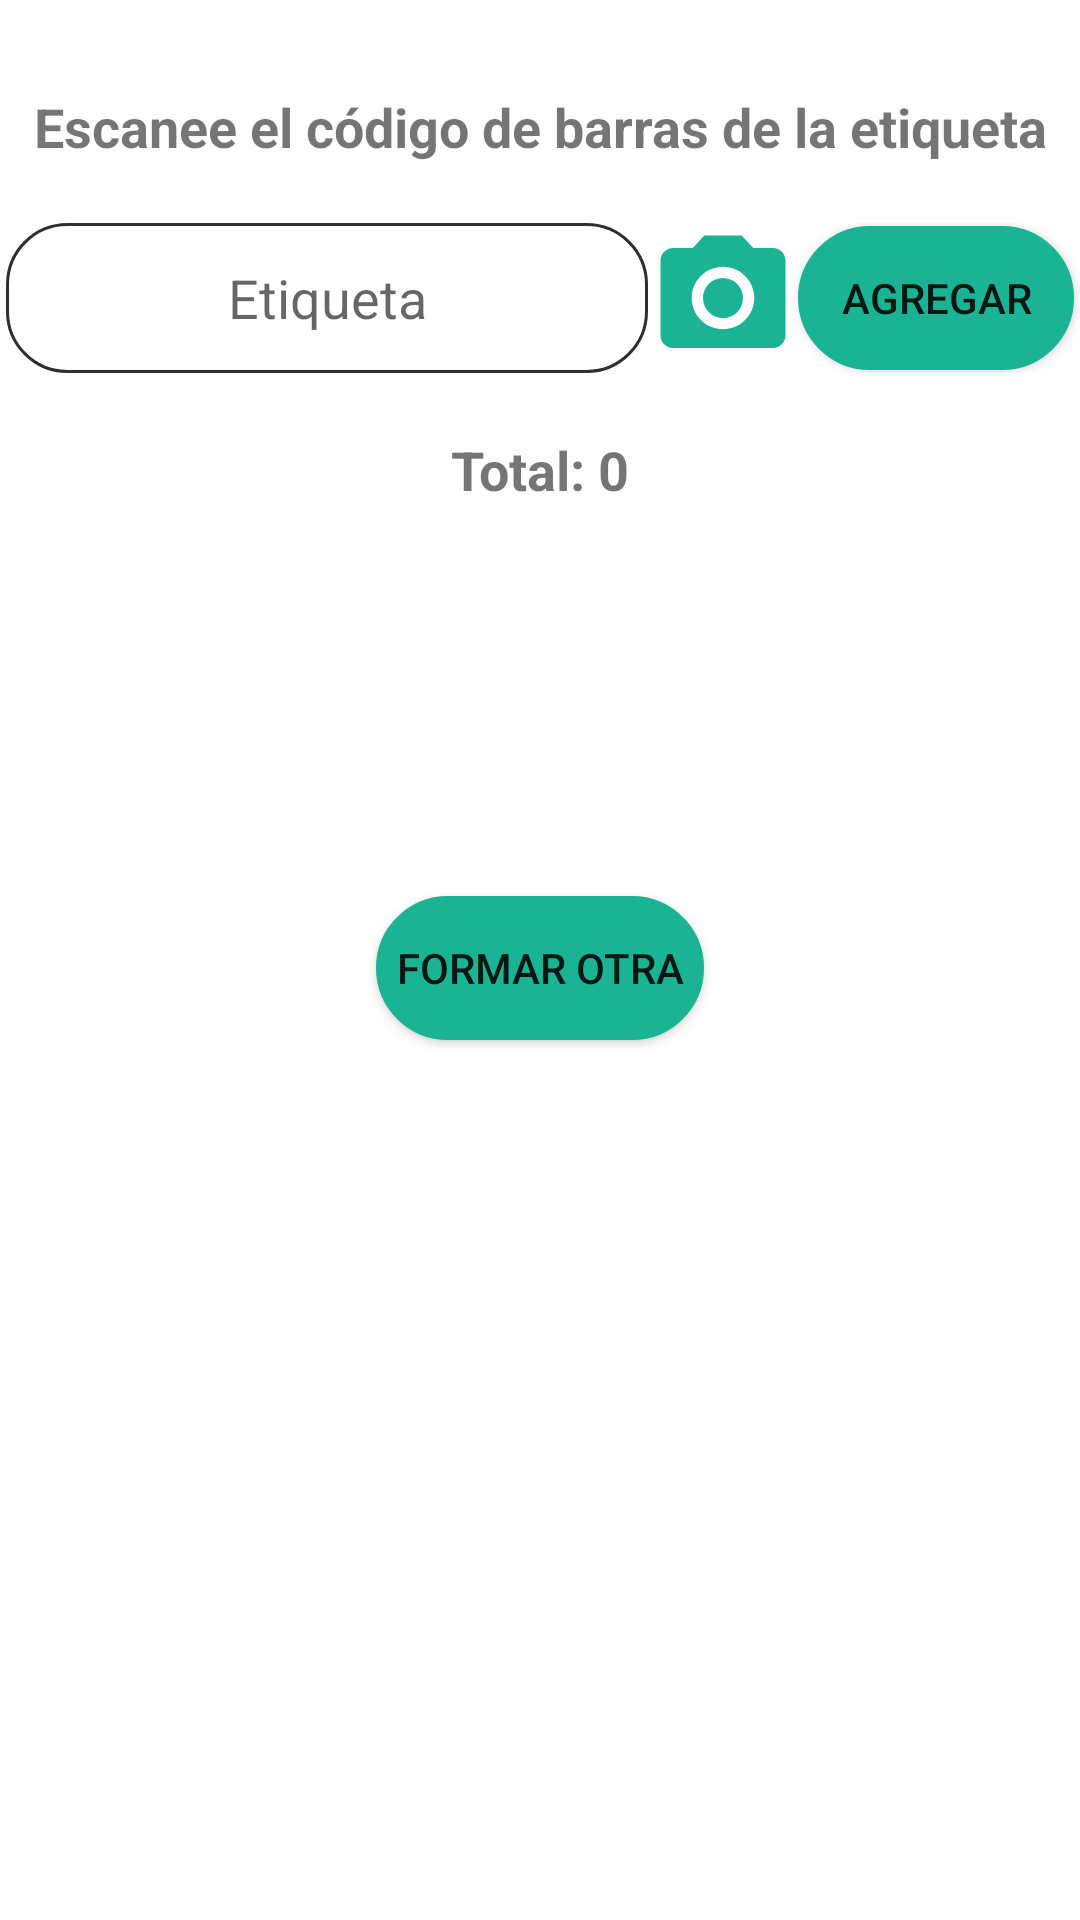

Named icons in this screenshot (1080 × 1920) and their bounding boxes, bbox=[x1, y1, x2, y2]:
photo camera: bbox=[660, 235, 786, 348]
